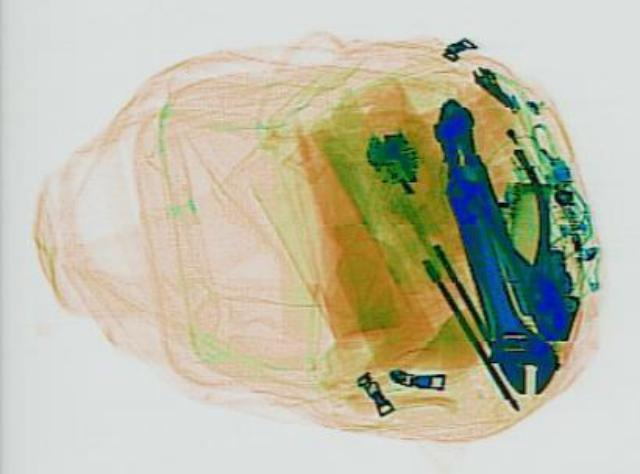Pliers: (460, 144, 590, 344)
Wrench: (420, 161, 566, 394)
